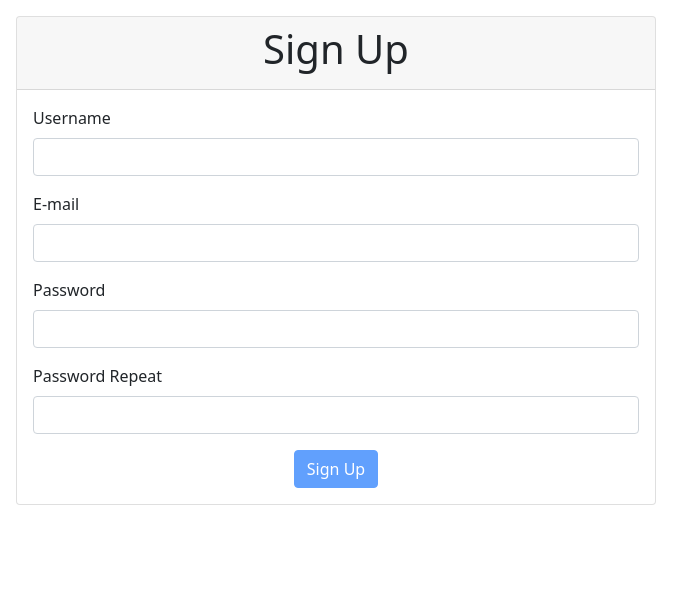
Scenario: Interactions › Displays spinner after clicking the submit
Type "user1" into the field labelled "Username" at (336, 157), box [33,138,639,176]
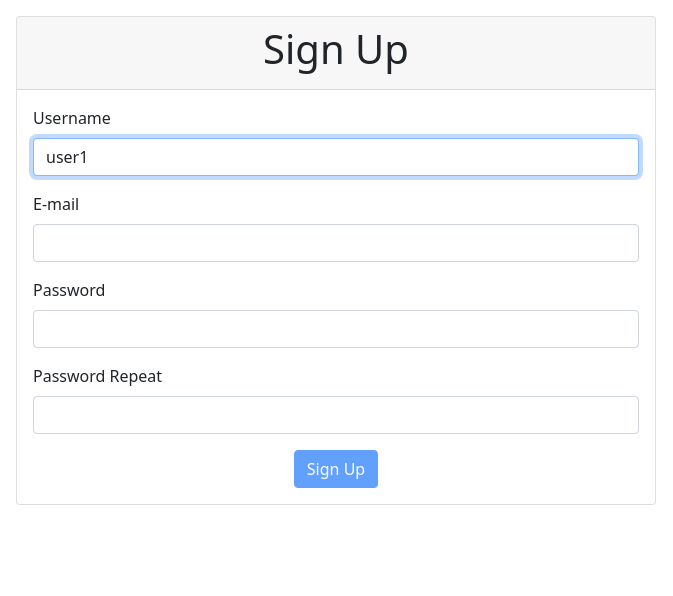
Type "user1@mail.com" into the field labelled "E-mail" at (336, 243), box [33,224,639,262]
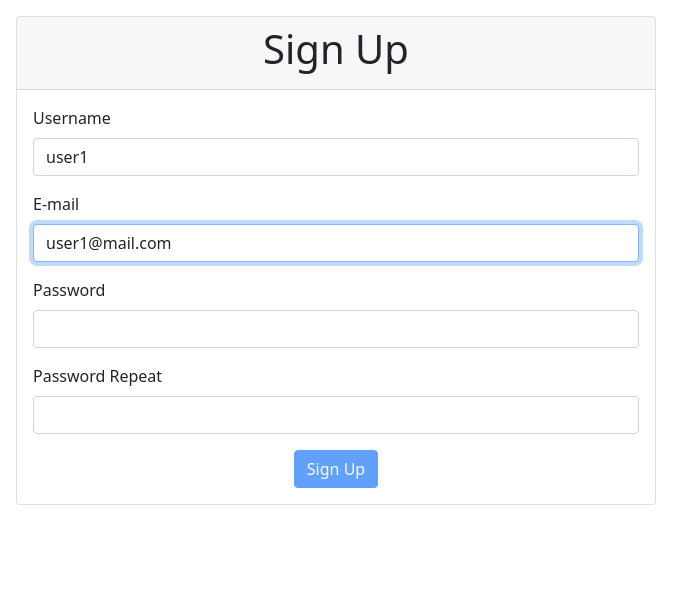
Type "P4ssword" into the password field labelled "Password" at (336, 329), box [33,310,639,348]
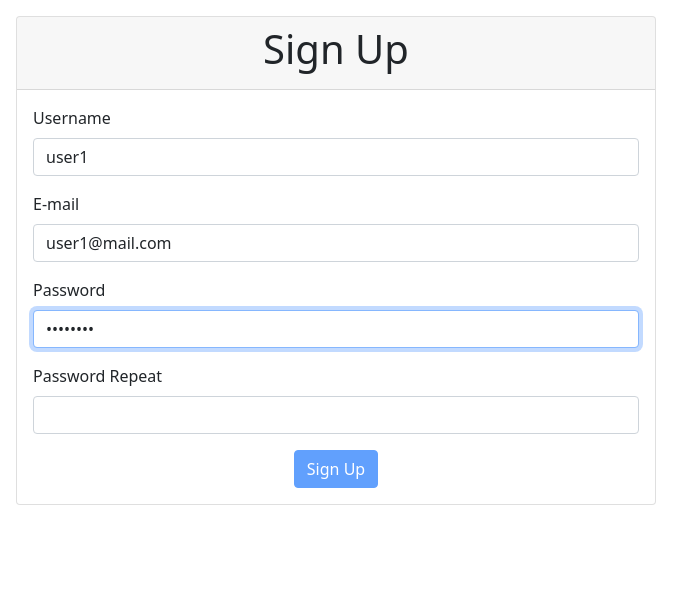
Type "P4ssword" into the password field labelled "Password Repeat" at (336, 415), box [33,396,639,434]
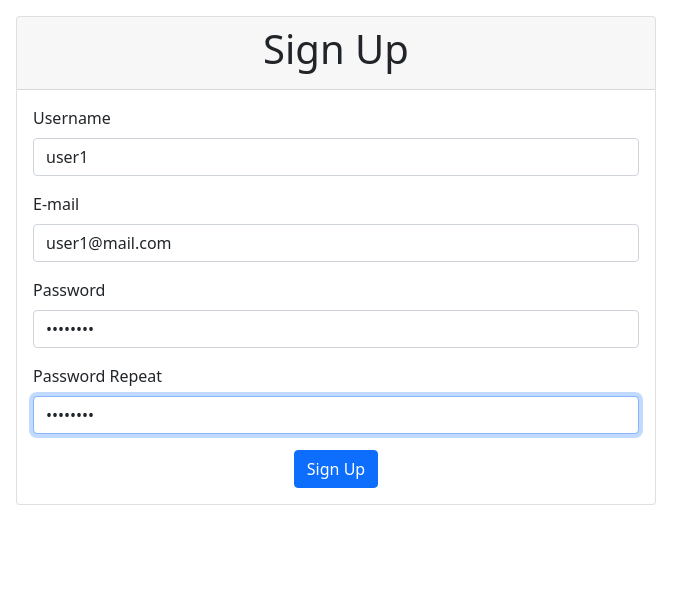
Click the button "Sign Up" at (336, 469), box [294,450,378,488]
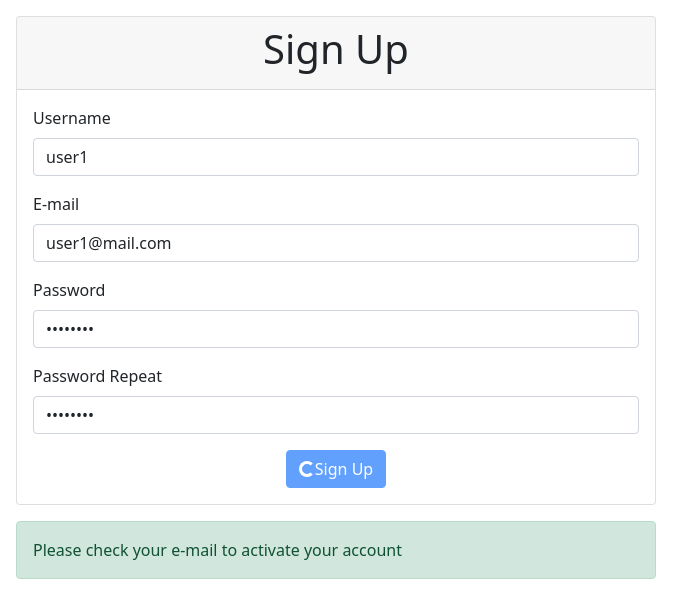
Now the message is shown, box [299,461,315,477]
Now the text "Please check your e-mail to activate your account" is shown, box [16,521,656,579]
